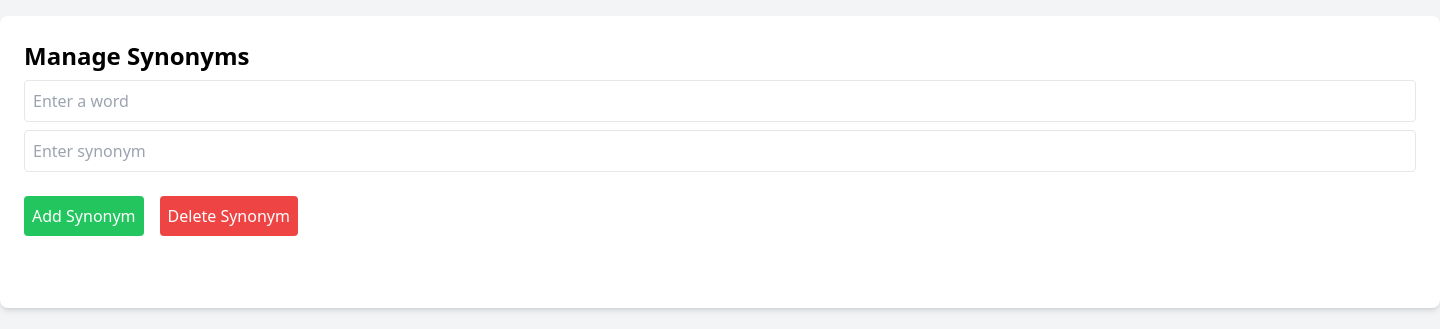
Scenario: ManageSynonyms Component › displays an error message when fields are empty and add button is clicked
What coordinates should you click on to do the following:
click the button "Add Synonym"
I would click on:
 (84, 216)
Its box is [24,196,144,236].
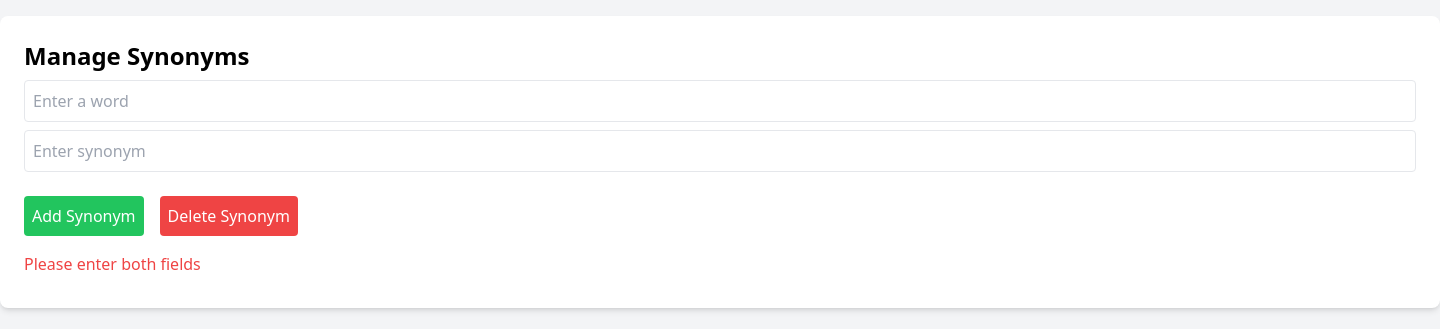
Expected: the text "Please enter both fields" is shown, [24,253,201,275]
